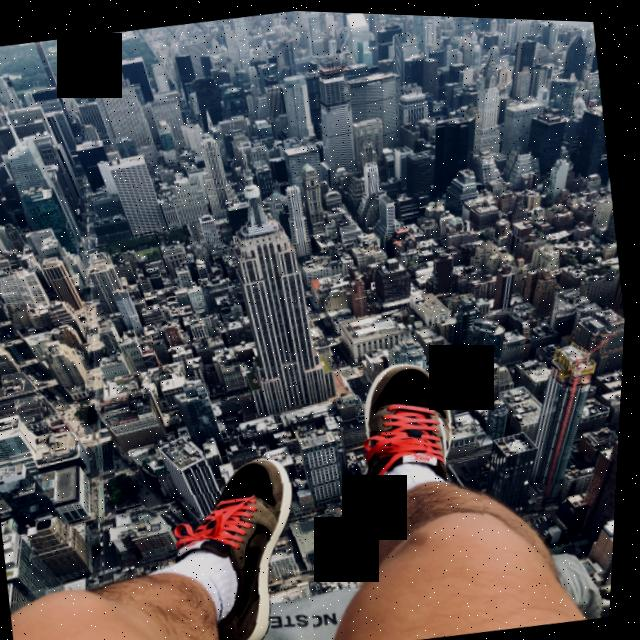shoe: (142, 435, 331, 640), (340, 344, 499, 545)
